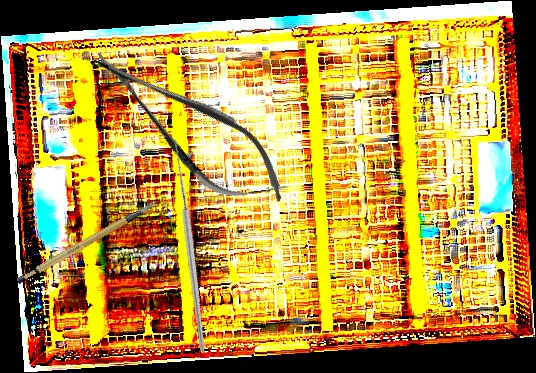Hook Surgical: (91, 134, 278, 354)
Micro Scissor: (75, 24, 303, 229)
Scalpel Handle: (8, 201, 167, 287)
